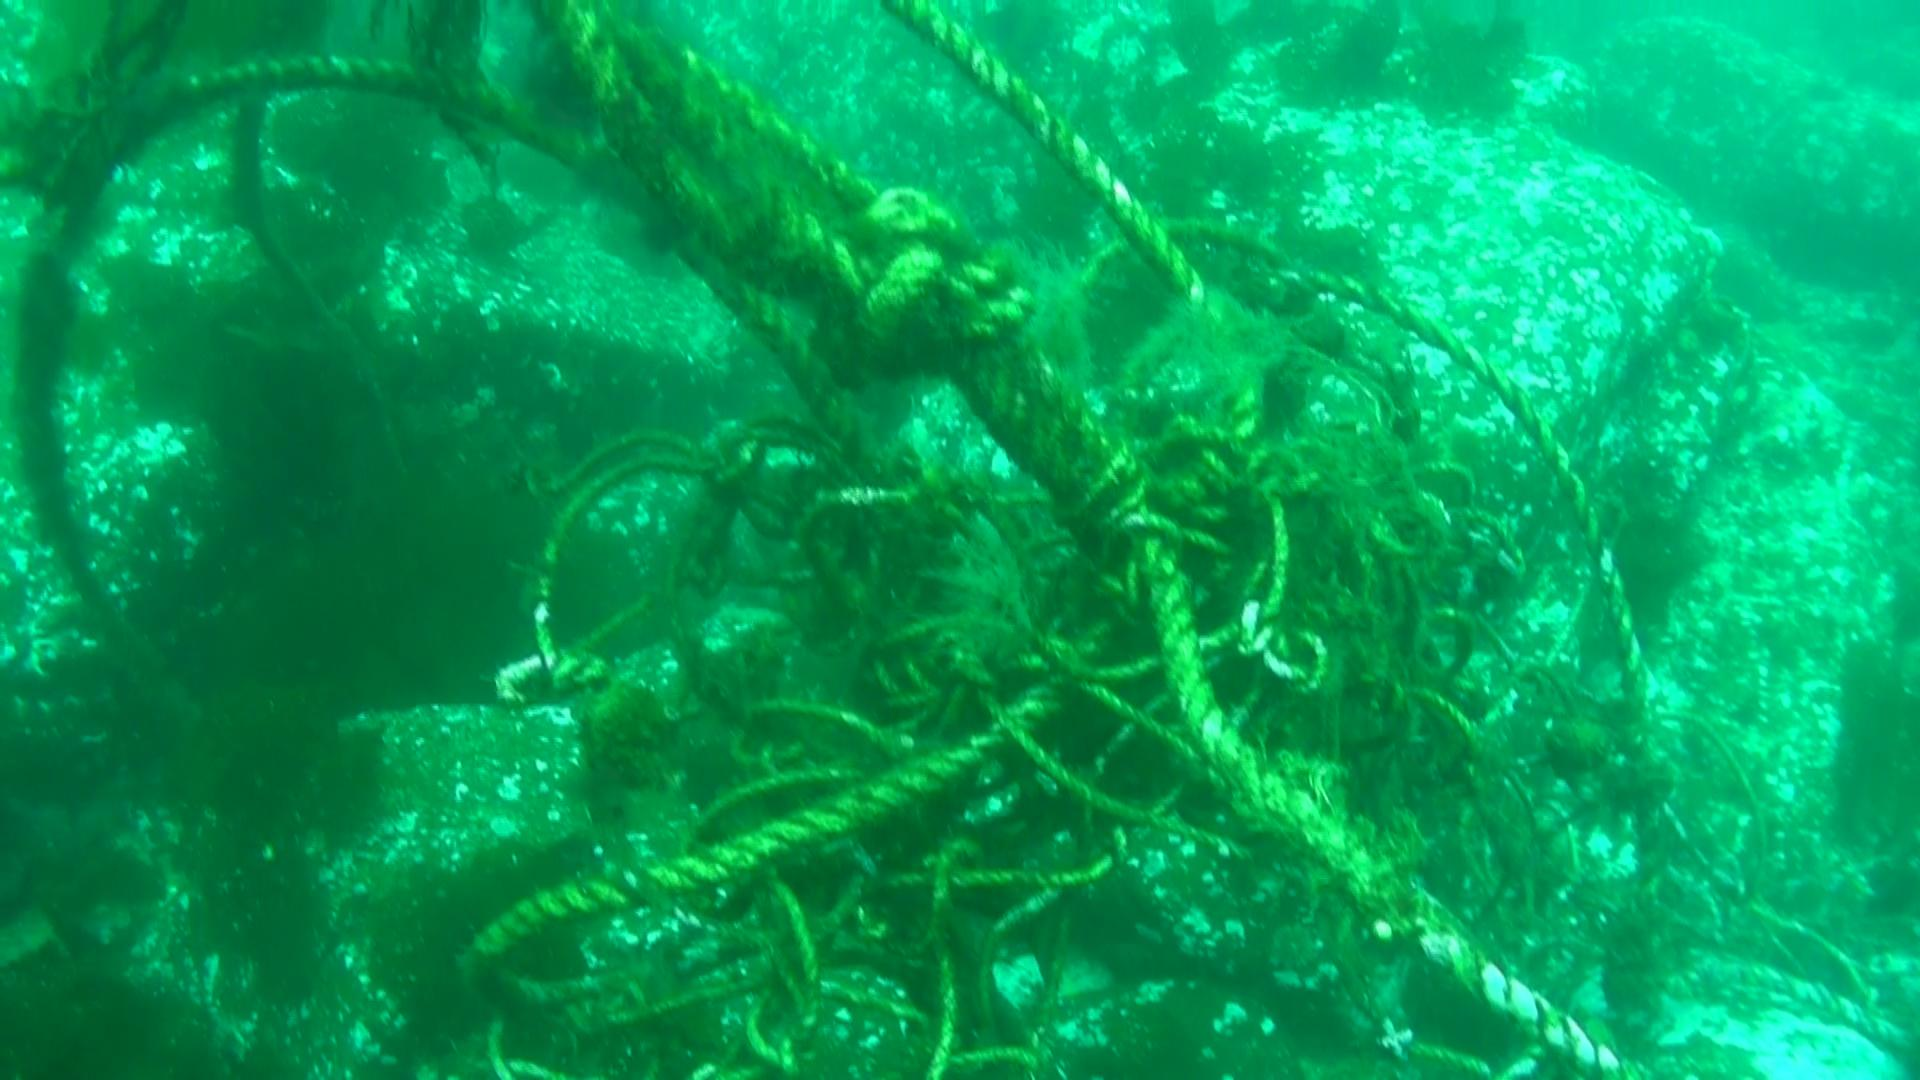bundle of ropes: (175, 0, 1680, 1080)
